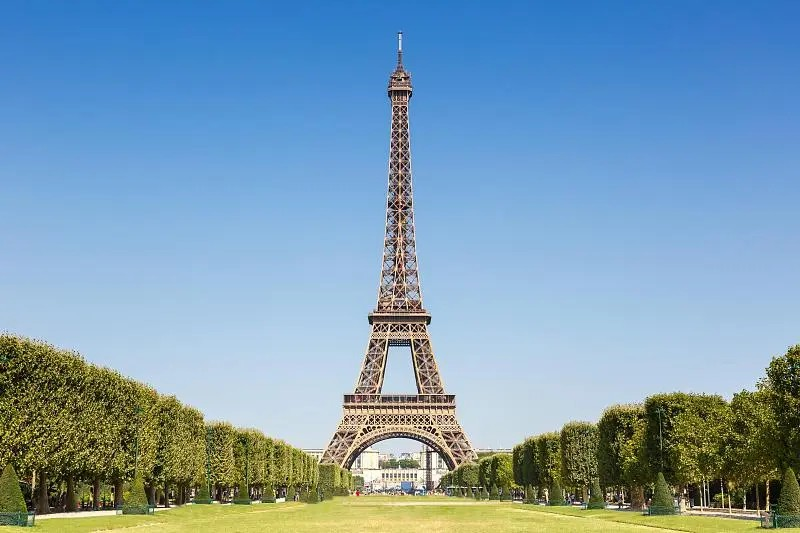Eiffel: (318, 29, 479, 469)
